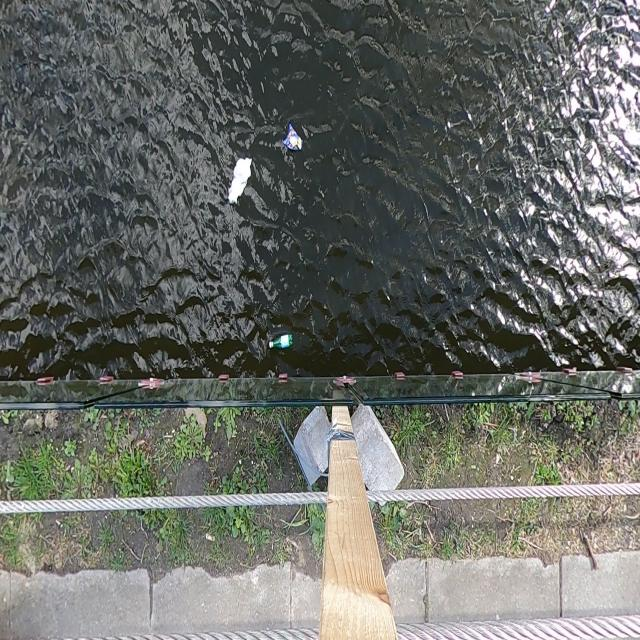Bouteille plastique: (265, 329, 297, 359)
Sac plastique: (226, 149, 257, 211)
